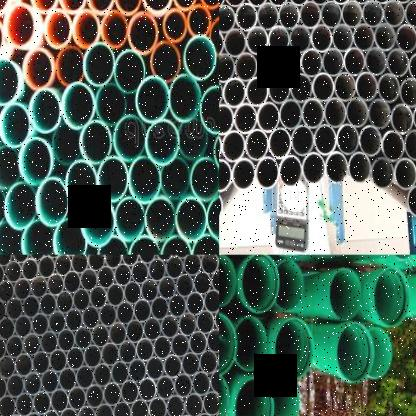pipe: (274, 316, 314, 380), (337, 322, 374, 382), (373, 266, 410, 326), (242, 254, 279, 312), (235, 316, 268, 371), (329, 267, 362, 320), (18, 137, 52, 186), (61, 82, 95, 131), (135, 75, 169, 124), (145, 119, 180, 166), (128, 156, 162, 204), (36, 178, 69, 227), (81, 200, 115, 247), (4, 182, 37, 230), (113, 114, 146, 162), (234, 377, 273, 416), (170, 74, 201, 123), (97, 155, 129, 202), (275, 260, 304, 311), (65, 160, 97, 206), (4, 3, 36, 49), (79, 120, 112, 164), (22, 47, 55, 91), (29, 88, 61, 133), (114, 49, 146, 94), (176, 197, 207, 242), (115, 196, 145, 242), (185, 36, 216, 80), (145, 197, 175, 242), (0, 102, 29, 147), (150, 41, 181, 83), (127, 12, 158, 54), (368, 326, 392, 380), (96, 83, 126, 126), (191, 157, 219, 202), (161, 157, 190, 200), (179, 118, 208, 160), (54, 217, 86, 255), (20, 219, 53, 255), (44, 8, 72, 50), (270, 376, 299, 416), (53, 124, 81, 165), (56, 46, 84, 86), (73, 9, 101, 49), (220, 312, 236, 376), (101, 10, 127, 49), (199, 85, 219, 135), (0, 57, 20, 105), (0, 145, 21, 189), (162, 8, 187, 43), (278, 155, 303, 189), (187, 4, 212, 37), (255, 157, 280, 190), (232, 158, 256, 192), (220, 255, 236, 306), (221, 131, 246, 163), (381, 130, 405, 163), (313, 124, 337, 157), (325, 152, 349, 185), (301, 98, 325, 130), (268, 128, 292, 160), (345, 97, 369, 129), (371, 157, 394, 190), (368, 98, 391, 131), (359, 125, 382, 158), (245, 129, 268, 162), (302, 153, 325, 186), (336, 124, 359, 157), (234, 103, 257, 135), (291, 125, 314, 157), (348, 153, 371, 185), (279, 99, 302, 131), (393, 157, 416, 189), (0, 221, 22, 254), (391, 102, 413, 135), (267, 75, 291, 105), (223, 28, 247, 58), (256, 50, 280, 80), (245, 77, 268, 108), (386, 48, 409, 79), (223, 78, 246, 109), (257, 102, 280, 133), (324, 97, 346, 129), (278, 49, 301, 79), (377, 74, 400, 104), (331, 23, 354, 53), (356, 72, 378, 103), (334, 72, 356, 103), (234, 53, 257, 82), (343, 48, 366, 77), (300, 49, 323, 78), (289, 25, 312, 54), (128, 235, 161, 255), (246, 26, 268, 56), (312, 73, 334, 103), (365, 47, 387, 77), (235, 3, 257, 33), (322, 48, 344, 78), (352, 24, 375, 52), (160, 235, 192, 255), (290, 74, 312, 103), (268, 26, 290, 55), (374, 23, 396, 52), (299, 1, 321, 30), (257, 2, 279, 31), (278, 2, 300, 30), (320, 1, 342, 29), (361, 0, 383, 28), (311, 24, 332, 53), (395, 24, 416, 53), (341, 0, 362, 29), (96, 236, 128, 255), (382, 0, 404, 27), (192, 234, 219, 255), (207, 195, 219, 240), (399, 77, 416, 108), (137, 377, 157, 403), (155, 375, 175, 401), (173, 373, 193, 399), (191, 371, 211, 397), (219, 4, 236, 34), (188, 331, 208, 356), (219, 104, 234, 136), (183, 392, 203, 416), (180, 353, 200, 377), (32, 391, 51, 416), (85, 384, 104, 409), (75, 365, 94, 390), (110, 361, 129, 386), (14, 353, 33, 378), (199, 350, 218, 375), (83, 344, 102, 369), (91, 324, 110, 349), (175, 273, 194, 298), (193, 271, 212, 296), (14, 392, 33, 416), (50, 389, 69, 413), (67, 387, 86, 411), (120, 380, 139, 404), (23, 372, 42, 396), (40, 370, 59, 394), (145, 357, 164, 381), (163, 355, 182, 379), (31, 351, 50, 375), (118, 340, 137, 364), (135, 338, 154, 362), (153, 336, 172, 360), (22, 333, 41, 357), (108, 322, 127, 346), (160, 315, 179, 339), (196, 310, 215, 334), (64, 308, 83, 332), (55, 291, 74, 315), (123, 281, 142, 305), (165, 256, 184, 280), (219, 53, 234, 83), (103, 382, 121, 407), (6, 374, 24, 399), (93, 363, 111, 388), (49, 348, 67, 373), (66, 346, 84, 371), (101, 342, 119, 367), (171, 333, 189, 358), (178, 312, 196, 337), (219, 159, 232, 193), (202, 390, 219, 416), (39, 331, 58, 354), (30, 313, 49, 336), (98, 304, 117, 327), (150, 297, 169, 320), (148, 259, 167, 282), (58, 368, 76, 392), (128, 359, 146, 383), (126, 320, 144, 344), (143, 317, 161, 341), (48, 310, 66, 334), (82, 306, 100, 330), (133, 299, 151, 323), (22, 295, 40, 319), (168, 294, 186, 318), (186, 292, 204, 316), (72, 288, 90, 312), (158, 276, 176, 300), (80, 268, 98, 292), (131, 261, 149, 285), (219, 374, 229, 416), (165, 394, 184, 416), (141, 0, 173, 13), (403, 129, 416, 161), (5, 336, 23, 359), (57, 329, 75, 352), (74, 327, 92, 350), (14, 315, 32, 338), (116, 302, 134, 325), (106, 284, 124, 307), (140, 279, 158, 302), (114, 264, 132, 287), (4, 261, 22, 284), (39, 293, 56, 317), (30, 275, 47, 299), (47, 273, 64, 297), (210, 15, 219, 59), (87, 0, 115, 14), (5, 298, 22, 321), (14, 278, 31, 301), (63, 271, 80, 294), (97, 266, 114, 289), (38, 256, 55, 279), (115, 0, 141, 15), (203, 290, 219, 314), (90, 286, 106, 310), (22, 258, 38, 282), (183, 255, 201, 276), (0, 355, 15, 380), (29, 0, 59, 12), (148, 396, 166, 416), (200, 255, 218, 275), (54, 255, 71, 276), (59, 0, 86, 13), (404, 0, 416, 29), (0, 317, 14, 341), (0, 394, 15, 416), (71, 255, 88, 274), (406, 185, 416, 217), (206, 329, 219, 353), (0, 281, 14, 303), (130, 399, 148, 416), (172, 0, 197, 11), (113, 401, 131, 416), (88, 255, 104, 271), (103, 255, 120, 269), (210, 369, 219, 395), (408, 53, 416, 82), (94, 404, 113, 416), (76, 405, 95, 416), (210, 270, 219, 293), (121, 255, 138, 267), (224, 0, 246, 9), (0, 0, 11, 17), (245, 0, 268, 8), (200, 0, 219, 9), (138, 254, 155, 264), (267, 0, 288, 7), (59, 408, 77, 416), (0, 376, 6, 400), (0, 337, 6, 360), (0, 300, 6, 323), (12, 254, 29, 262), (288, 0, 310, 6), (309, 0, 331, 6), (0, 255, 12, 266), (156, 254, 172, 262), (214, 307, 219, 332), (41, 410, 60, 416), (330, 0, 350, 5), (413, 102, 416, 134), (28, 254, 44, 260), (0, 263, 4, 286), (370, 0, 392, 4), (392, 0, 413, 4), (350, 0, 371, 4), (23, 412, 43, 416), (195, 413, 214, 416), (6, 415, 24, 416)
